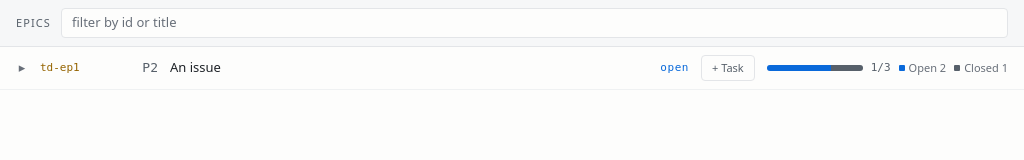
EpicList › gives an expanded child that has children of its own a count
Click the button named "Tasks of td-ep1".
click(22, 68)  # box x1=16 y1=58 x2=28 y2=78
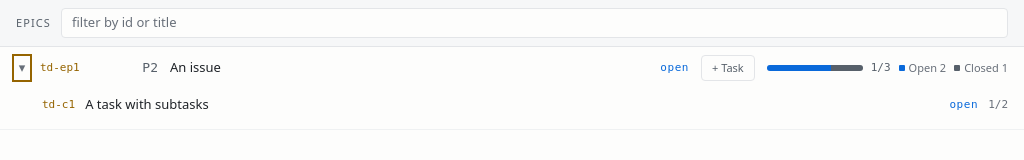
Check: the text "1/2" is shown, box x1=988 y1=96 x2=1008 y2=113
